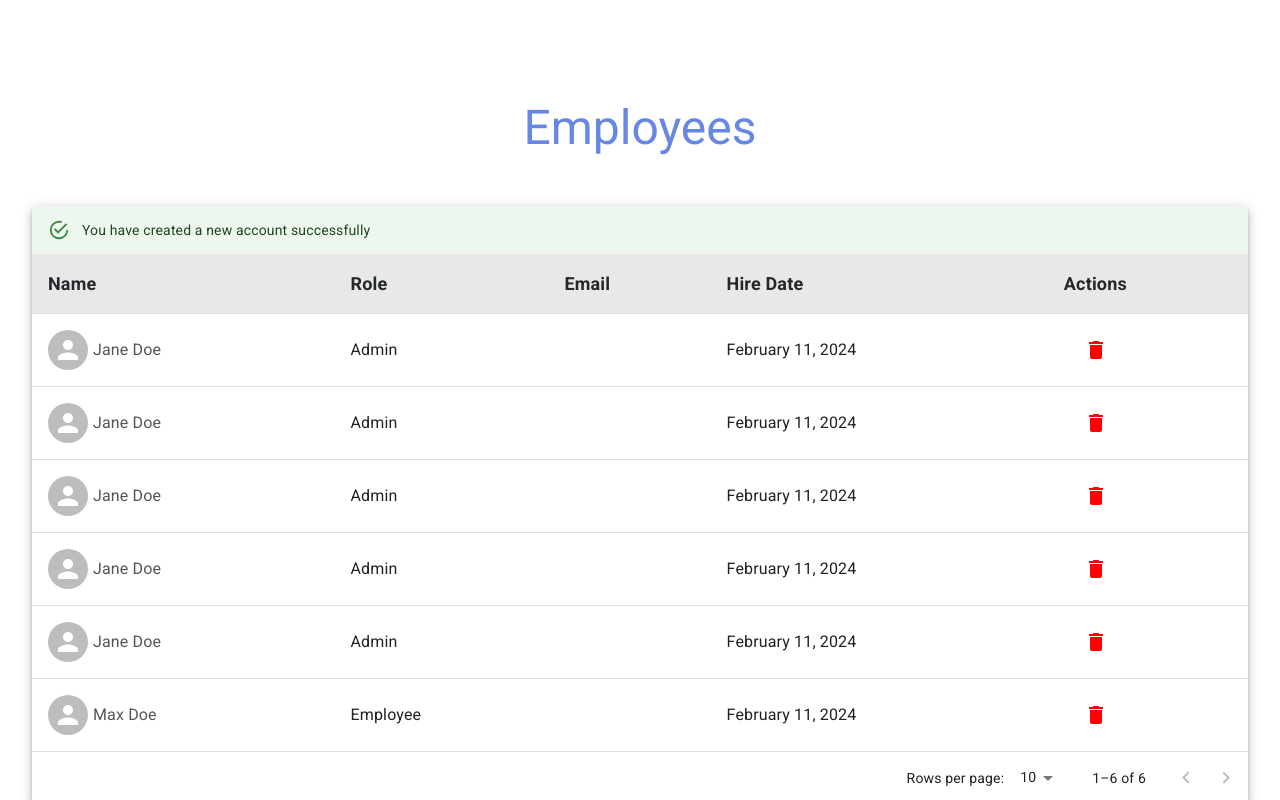
Scenario: EmployeeTable › when paginating › should be able to change pages
The width and height of the screenshot is (1280, 800).
Note: click on the select for Rows per page
Click the dropdown named "Rows per page:". click: x=1028, y=778
box: [1020,770,1036,786]
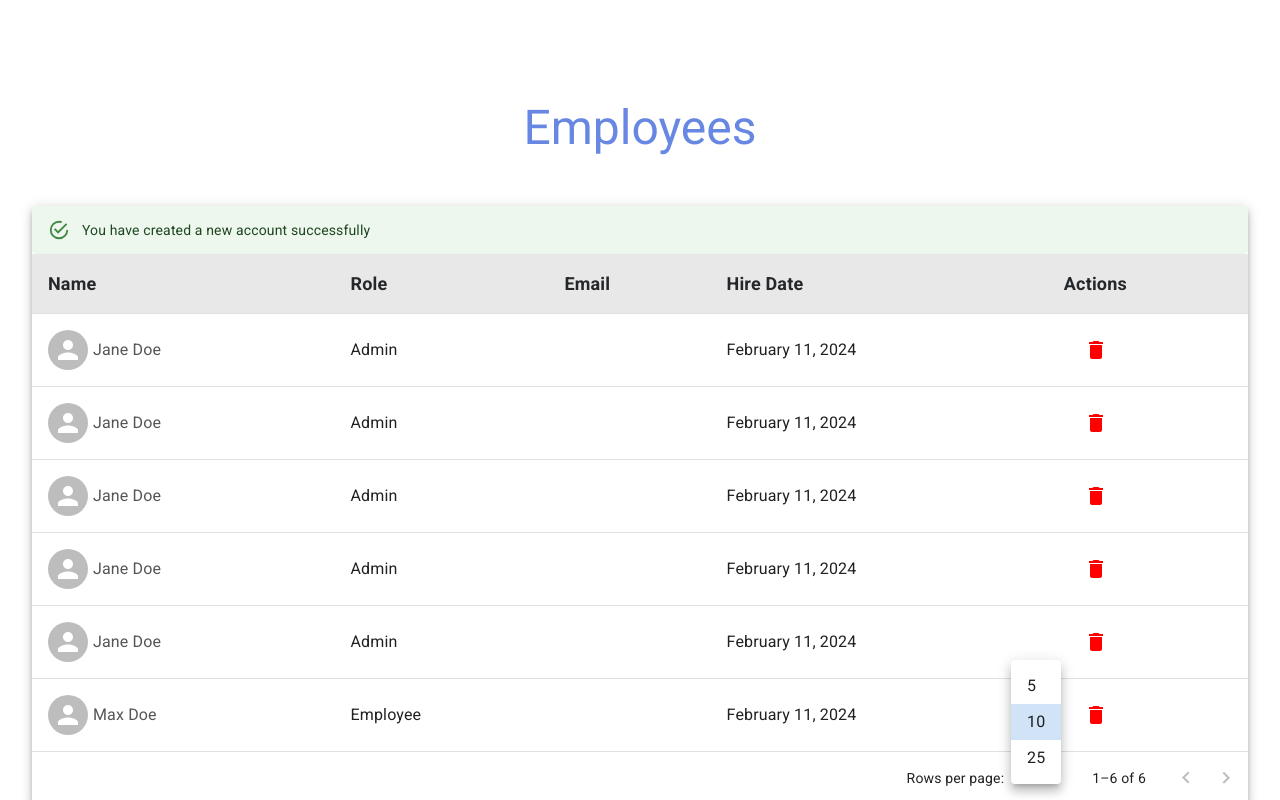
Note: we select on 5 (Max is the 6th entry)
Click the option "5". click: x=1032, y=686
box: [1027,676,1036,695]
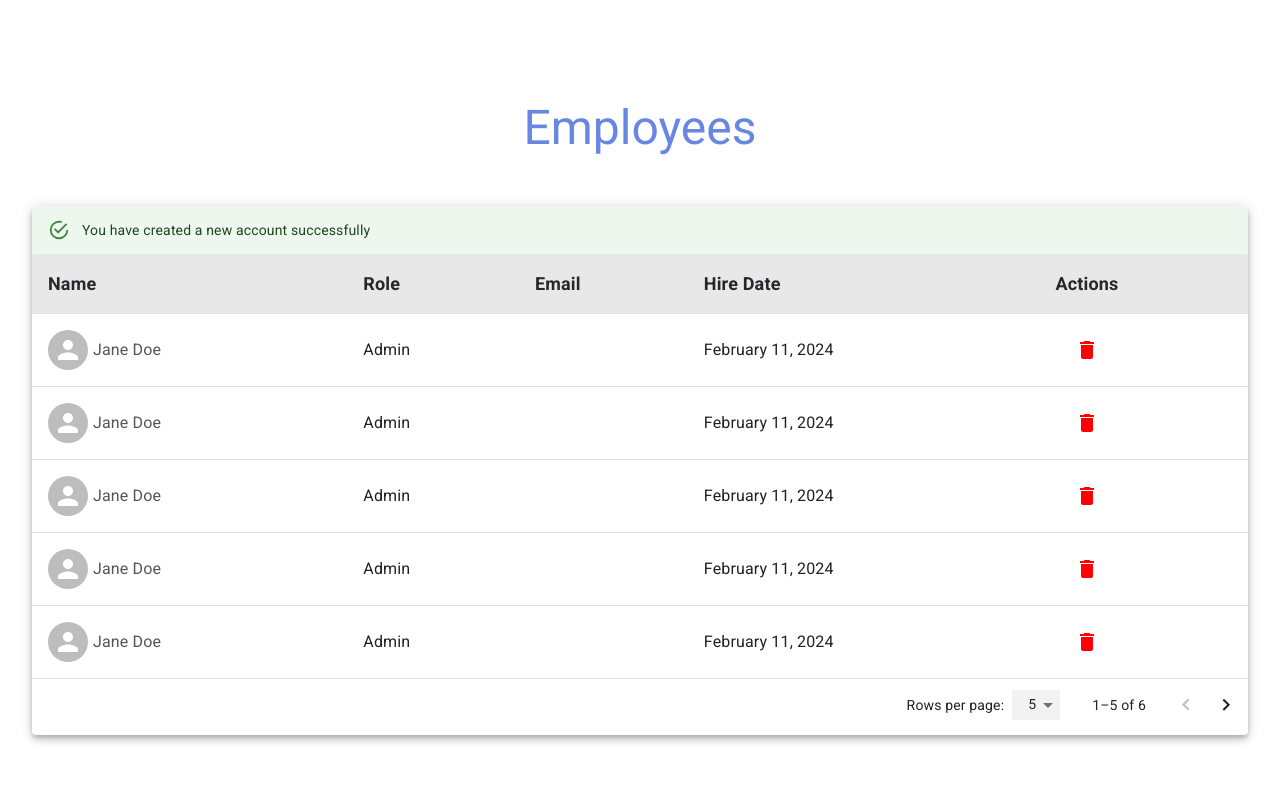
Now the link "Max Doe" is gone
Note: When paginating through to the second page
Click the button with test id "KeyboardArrowRightIcon". click: x=1226, y=705
box: [1206,685,1246,725]
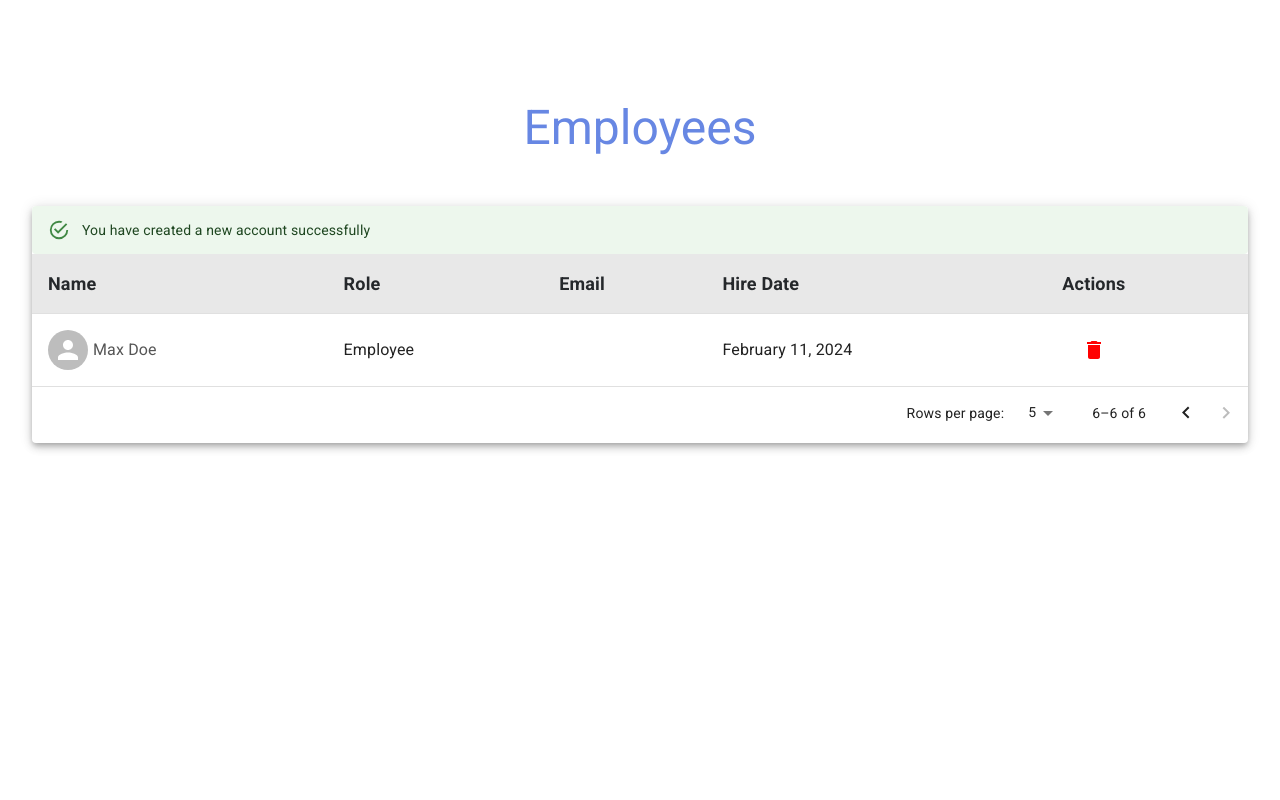
Now the text "Max Doe" is shown, box [93,338,157,362]
